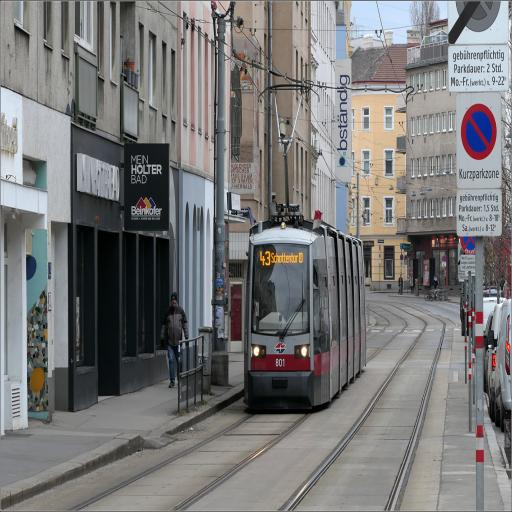ULF: (242, 216, 367, 412)
